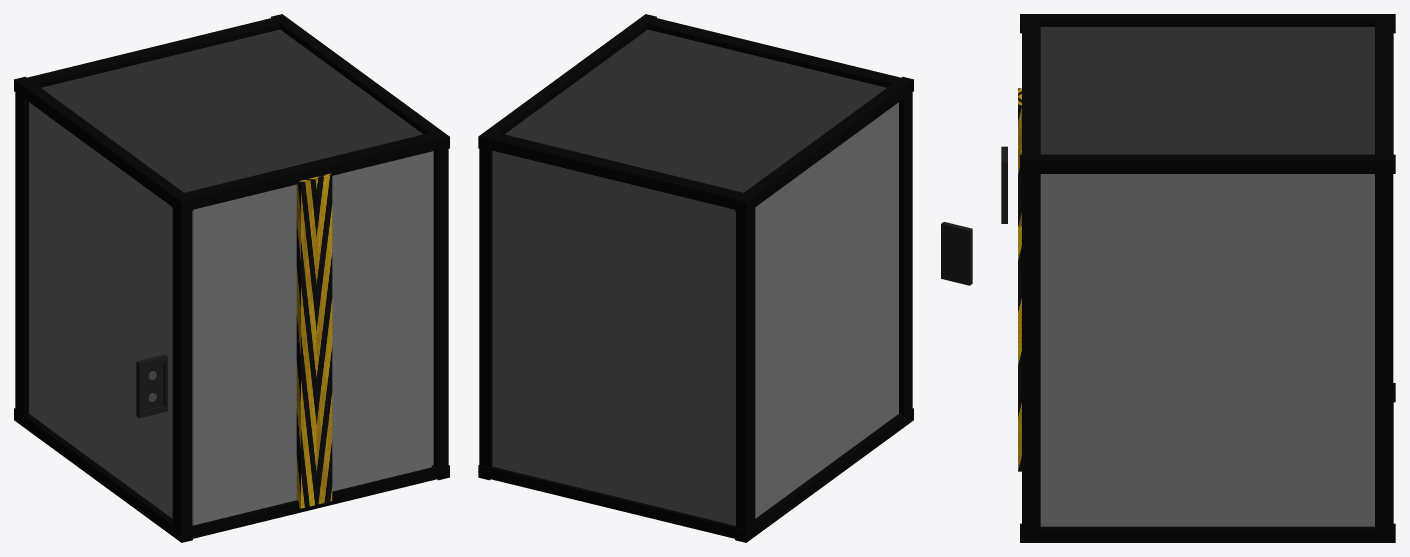
Rendered from Elevator.fbx.
3 renders of one model, left to right at view 1: azimuth 30°, elevation 25°; view 2: azimuth 150°, elevation 25°; view 3: azimuth 270°, elevation 25°, orthographic. The views are drawn at different scales.
Visible parts, largest first — view 1: Main Elevator, Door 2, Outer Frame, Door 1, Panel; view 2: Main Elevator, Outer Frame, Panel; view 3: Main Elevator, Outer Frame, Door 1, Panel.
Boxes of the visible parts, bbox=[...] form: Main Elevator: bbox=[29, 29, 433, 518]; Door 2: bbox=[192, 177, 316, 525]; Outer Frame: bbox=[14, 14, 449, 542]; Door 1: bbox=[315, 151, 431, 504]; Panel: bbox=[136, 354, 167, 418]; Main Elevator: bbox=[492, 29, 898, 525]; Outer Frame: bbox=[478, 14, 913, 542]; Panel: bbox=[941, 222, 972, 285]; Main Elevator: bbox=[1040, 27, 1374, 526]; Outer Frame: bbox=[1020, 14, 1395, 542]; Door 1: bbox=[1018, 97, 1021, 471]; Panel: bbox=[1001, 146, 1007, 223].
Bounding box in the file's own units: 1217 × 1243 × 1162.
Materials: 12 (2 with a texture image).
